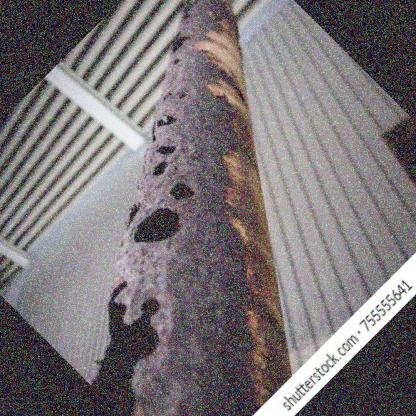burst: (77, 274, 170, 399), (107, 164, 212, 253)
